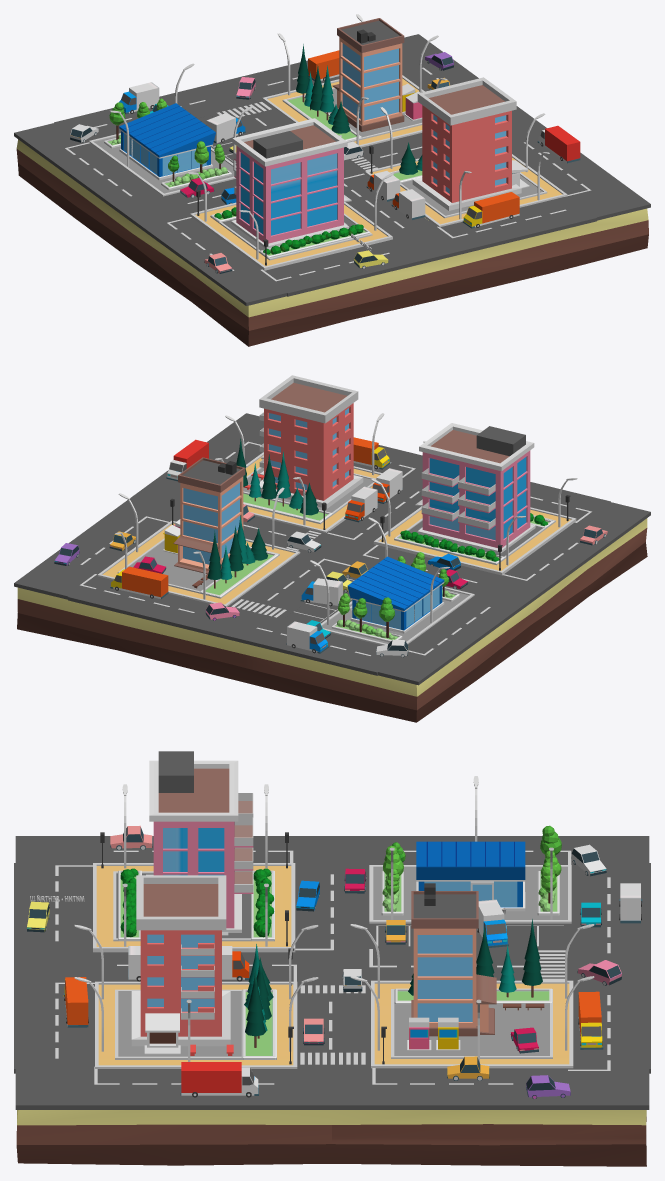
The picture shows the model from 3 angles, top to bottom: view 1: azimuth 30°, elevation 25°; view 2: azimuth 150°, elevation 25°; view 3: azimuth 270°, elevation 25°; orthographic projection. The views are drawn at different scales.
Visible parts, largest first — view 1: ROAD, Floor_6, House, House_2, House_3, Shop, Floor, ROAD_Lines_12, Floor_4_4, Floor_2, Car_08_3, Floor_3 (+11 smaller); view 2: ROAD, Floor_6, House, House_2, House_3, Shop, Floor, Floor_3, ROAD_Lines_12, Floor_4_4, Floor_4_3, Car_08_5 (+14 smaller); view 3: ROAD, Floor_6, House_2, House, House_3, Shop, Floor_3, Floor_4_3, Floor, Floor_2, ROAD_Lines_12, Floor_4_4 (+26 smaller).
Boxes of the visible parts, x1=… form: ROAD: x1=14, y1=34, x2=650, y2=305; Floor_6: x1=16, y1=139, x2=648, y2=346; House: x1=231, y1=118, x2=351, y2=248; House_2: x1=412, y1=77, x2=529, y2=210; House_3: x1=332, y1=18, x2=404, y2=131; Shop: x1=119, y1=103, x2=215, y2=180; Floor: x1=190, y1=202, x2=392, y2=270; ROAD_Lines_12: x1=65, y1=67, x2=591, y2=281; Floor_4_4: x1=89, y1=133, x2=236, y2=196; Floor_2: x1=365, y1=154, x2=567, y2=227; Car_08_3: x1=462, y1=192, x2=519, y2=228; Floor_3: x1=262, y1=75, x2=424, y2=147; ROAD: x1=14, y1=413, x2=650, y2=685; Floor_6: x1=17, y1=518, x2=647, y2=722; House: x1=415, y1=423, x2=535, y2=553; House_2: x1=259, y1=375, x2=363, y2=508; House_3: x1=173, y1=457, x2=245, y2=573; Shop: x1=347, y1=556, x2=444, y2=633; Floor: x1=373, y1=506, x2=576, y2=575; Floor_3: x1=97, y1=520, x2=300, y2=606; ROAD_Lines_12: x1=80, y1=441, x2=591, y2=655; Floor_4_4: x1=321, y1=586, x2=474, y2=645; Floor_4_3: x1=117, y1=538, x2=279, y2=598; Car_08_5: x1=110, y1=566, x2=168, y2=598; ROAD: x1=14, y1=836, x2=650, y2=1109; Floor_6: x1=16, y1=1110, x2=646, y2=1166; House_2: x1=131, y1=875, x2=230, y2=1054; House: x1=146, y1=751, x2=253, y2=935; House_3: x1=411, y1=883, x2=496, y2=1036; Shop: x1=416, y1=841, x2=525, y2=911; Floor_3: x1=371, y1=980, x2=573, y2=1068; Floor_4_3: x1=391, y1=989, x2=552, y2=1058; Floor: x1=93, y1=863, x2=295, y2=952; Floor_2: x1=95, y1=981, x2=297, y2=1068; ROAD_Lines_12: x1=55, y1=850, x2=610, y2=1084; Floor_4_4: x1=369, y1=865, x2=571, y2=923.
Bounding box in the file's own units: 2192 × 744 × 2192.
Materials: 8 (8 with a texture image).
